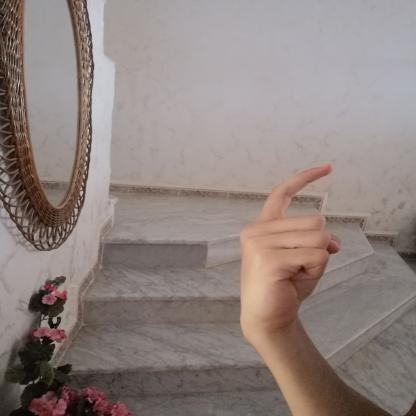RAA: (231, 157, 350, 343)
